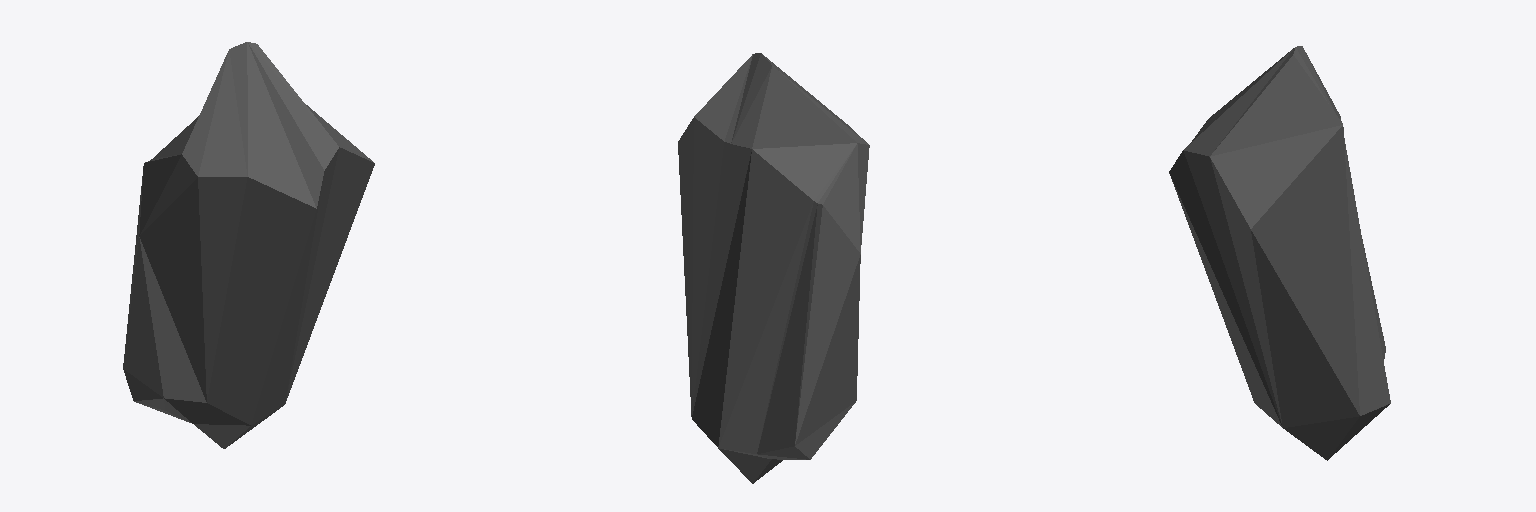
The model's file is mini1.obj.
The picture shows the model from 3 angles: view 1: azimuth 30°, elevation 25°; view 2: azimuth 150°, elevation 25°; view 3: azimuth 270°, elevation 25°; orthographic projection.
Visible parts, largest first — view 1: mini1; view 2: mini1; view 3: mini1.
Part boxes in pixels (x1,y1,x2,y2): mini1: (123,42,374,448); mini1: (678,53,869,483); mini1: (1169,46,1390,460).
Size of the model in its own units: 6.21 by 11.84 by 5.7.